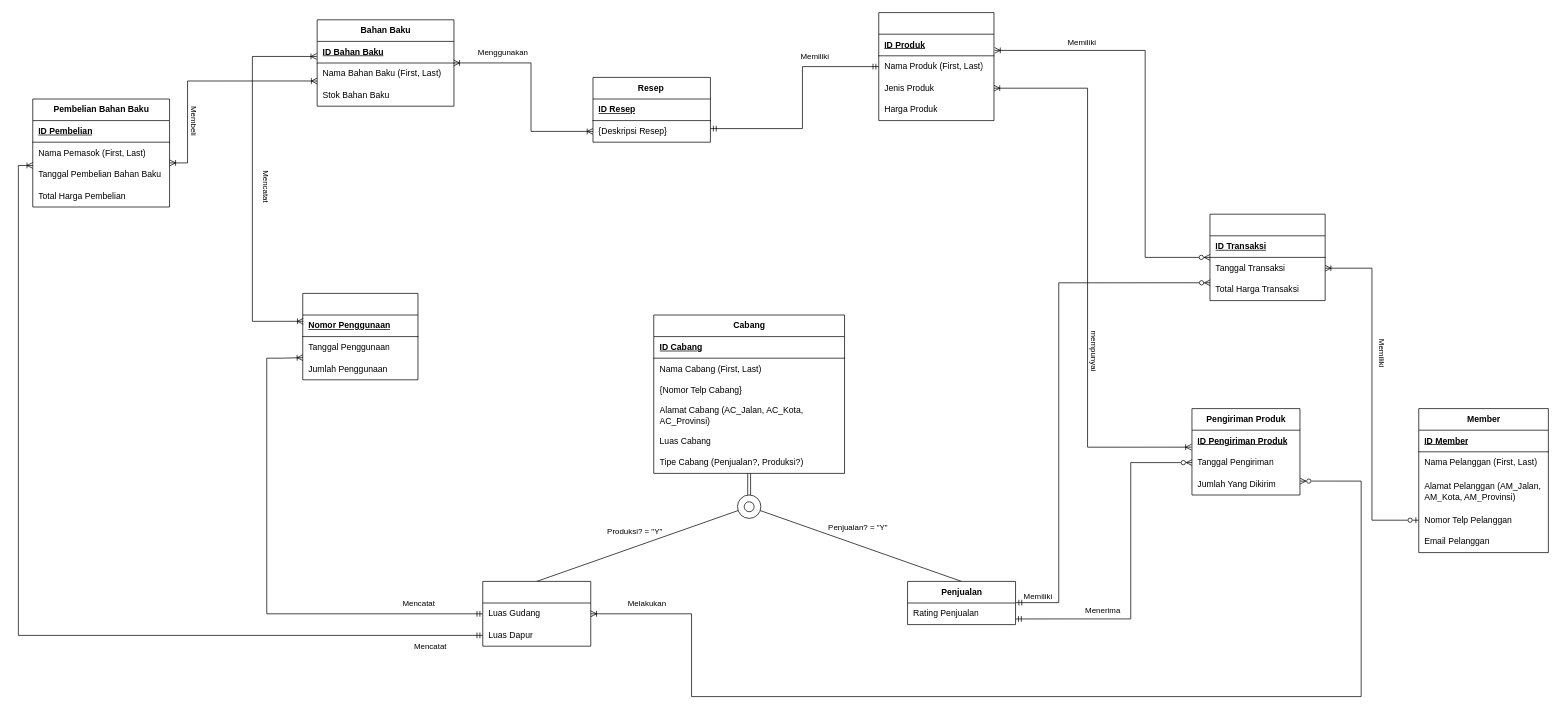
This 1561x716 diagram has some shape labels left out. Each missing label, with the box of its shape:
Penggunaan Bahan Baku: (302, 293, 418, 380)
Produk Roti: (878, 12, 994, 121)
Produksi: (482, 581, 591, 646)
Transaksi Penjualan: (1209, 213, 1325, 301)
